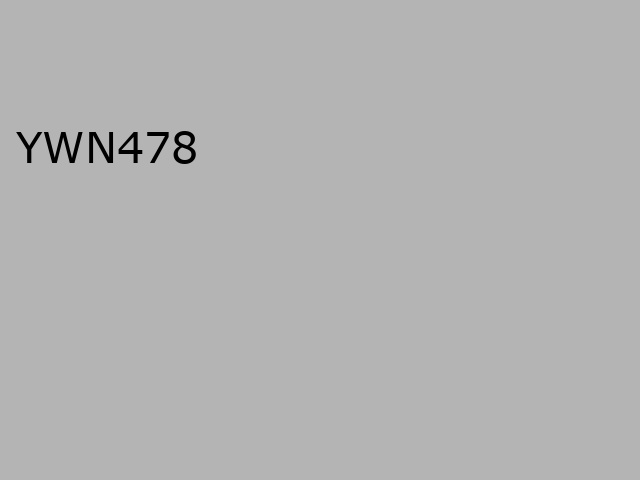OCR_AREA: (12, 127, 202, 168)
